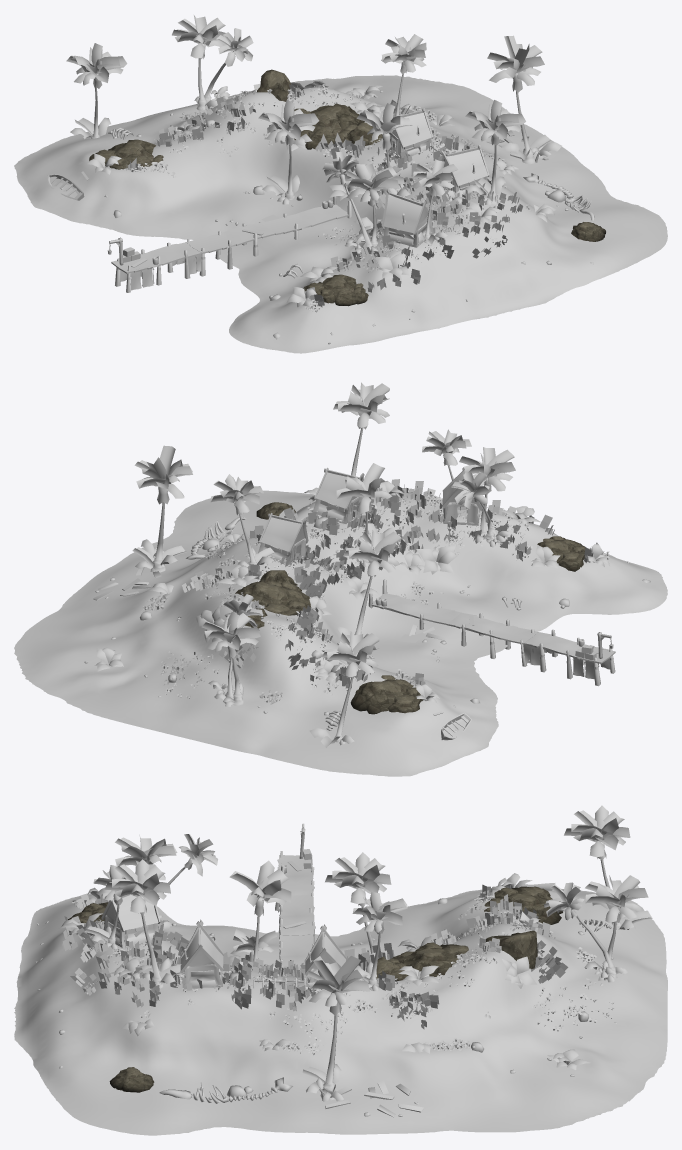
The model's file is island.fbx.
3 renders of one model, top to bottom at view 1: azimuth 30°, elevation 25°; view 2: azimuth 150°, elevation 25°; view 3: azimuth 270°, elevation 25°, orthographic. The views are drawn at different scales.
Parts seen in each view (by area): view 1: Island, Palm, Grass_island, Dock, Rocks, Plant02, Plant01, House3, House2, House1, Bones, Rocks_small; view 2: Island, Palm, Grass_island, Dock, Rocks, Plant02, Plant01, House1, House2, House3, Rocks_small, Bones (+1 smaller); view 3: Island, Palm, Grass_island, Rocks, Plant01, Dock, Plant02, House2, House3, Bones, House1, Rocks_small (+1 smaller).
Part boxes in pixels (left/top/right/bottom): Island: left=14, top=75, right=667, bottom=353; Palm: left=66, top=15, right=561, bottom=253; Grass_island: left=126, top=84, right=523, bottom=307; Dock: left=107, top=143, right=442, bottom=292; Rocks: left=89, top=69, right=605, bottom=306; Plant02: left=87, top=81, right=556, bottom=307; Plant01: left=130, top=84, right=531, bottom=312; House3: left=381, top=188, right=433, bottom=247; House2: left=441, top=145, right=489, bottom=195; House1: left=389, top=108, right=433, bottom=158; Bones: left=108, top=127, right=594, bottom=278; Rocks_small: left=104, top=90, right=593, bottom=344; Island: left=14, top=490, right=667, bottom=776; Palm: left=132, top=382, right=515, bottom=747; Grass_island: left=182, top=479, right=597, bottom=690; Dock: left=355, top=579, right=615, bottom=686; Rocks: left=235, top=502, right=585, bottom=714; Plant02: left=95, top=481, right=609, bottom=702; Plant01: left=141, top=492, right=610, bottom=704; House1: left=258, top=513, right=308, bottom=566; House2: left=312, top=467, right=364, bottom=523; House3: left=442, top=467, right=482, bottom=525; Rocks_small: left=84, top=517, right=650, bottom=723; Bones: left=185, top=517, right=521, bottom=730; Island: left=14, top=884, right=667, bottom=1135; Palm: left=85, top=805, right=652, bottom=1101; Grass_island: left=62, top=884, right=568, bottom=1029; Rocks: left=68, top=886, right=562, bottom=1092; Plant01: left=72, top=892, right=614, bottom=1054; Dock: left=253, top=823, right=315, bottom=989; Plant02: left=58, top=873, right=590, bottom=1069; House2: left=180, top=919, right=223, bottom=989; House3: left=101, top=894, right=160, bottom=948; Bones: left=159, top=919, right=611, bottom=1103; House1: left=304, top=924, right=346, bottom=988; Rocks_small: left=35, top=898, right=617, bottom=1116.
Bounding box in the file's own units: 196 × 62.29 × 205.
